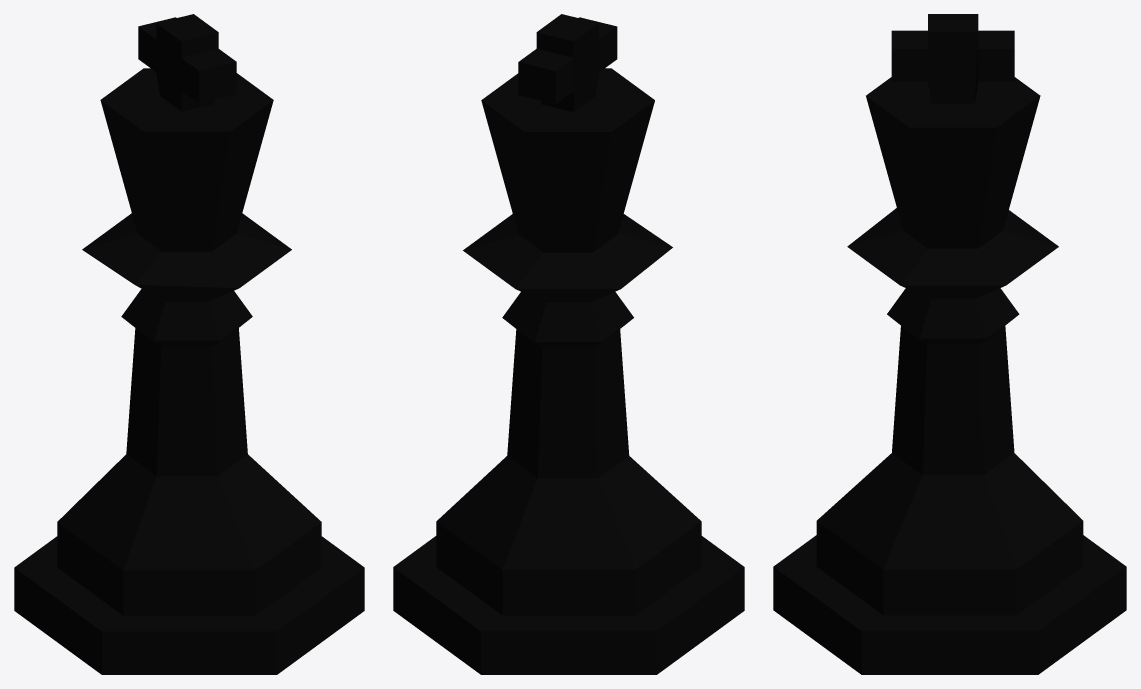
Rendered from chesspieceking02.gltf.
The picture shows the model from 3 angles, left to right: view 1: azimuth 30°, elevation 25°; view 2: azimuth 150°, elevation 25°; view 3: azimuth 270°, elevation 25°; orthographic projection.
Parts seen in each view (by area): view 1: Cylinder.004; view 2: Cylinder.004; view 3: Cylinder.004.
Part boxes in pixels (<box>): Cylinder.004: <box>14,14,364,674</box>; Cylinder.004: <box>393,14,744,674</box>; Cylinder.004: <box>773,14,1126,674</box>.
Size of the model in its own units: 0.0225 by 0.0477 by 0.026.
Materials: 1 (1 with a texture image).
